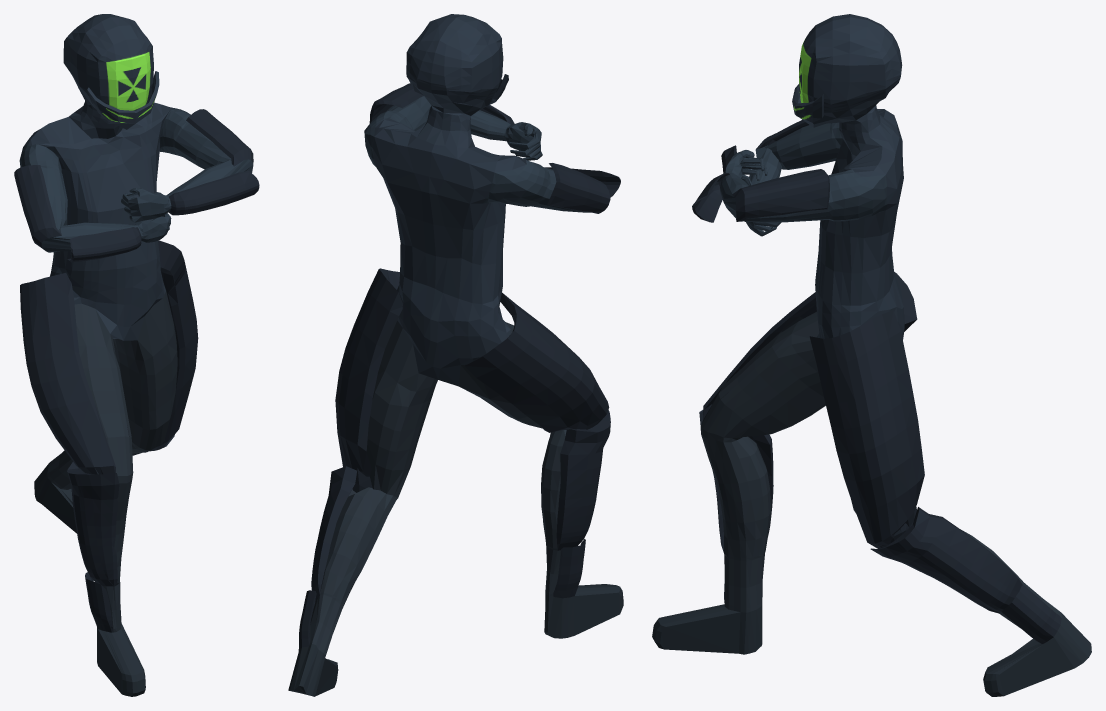
The model's file is Bastion_WL_000013.obj.
3 views of the same model, side by side, from view 1: azimuth 30°, elevation 25°; view 2: azimuth 150°, elevation 25°; view 3: azimuth 270°, elevation 25° (orthographic). The views are drawn at different scales.
Parts seen in each view (by area): view 1: Cube.002; view 2: Cube.002; view 3: Cube.002.
Part boxes in pixels (x1,y1,x2,y2): Cube.002: (14,14,259,696); Cube.002: (288,14,623,696); Cube.002: (652,14,1091,696).
Bounding box in the file's own units: 1.3 × 3.58 × 2.16.
